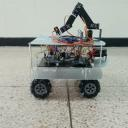cart: (28, 35, 109, 99)
